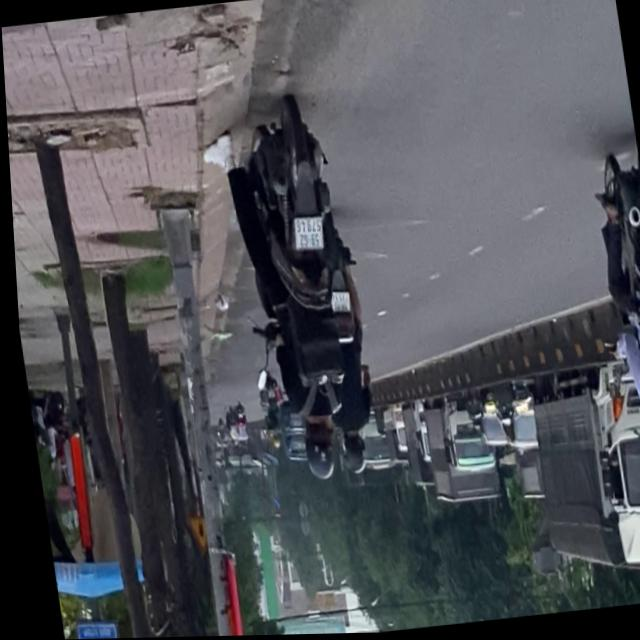helmet: (295, 420, 335, 485), (334, 434, 365, 478)
licenseplate: (214, 96, 384, 495), (299, 213, 385, 481), (582, 135, 640, 487)
nohelmet: (290, 220, 323, 255), (327, 293, 348, 315)
